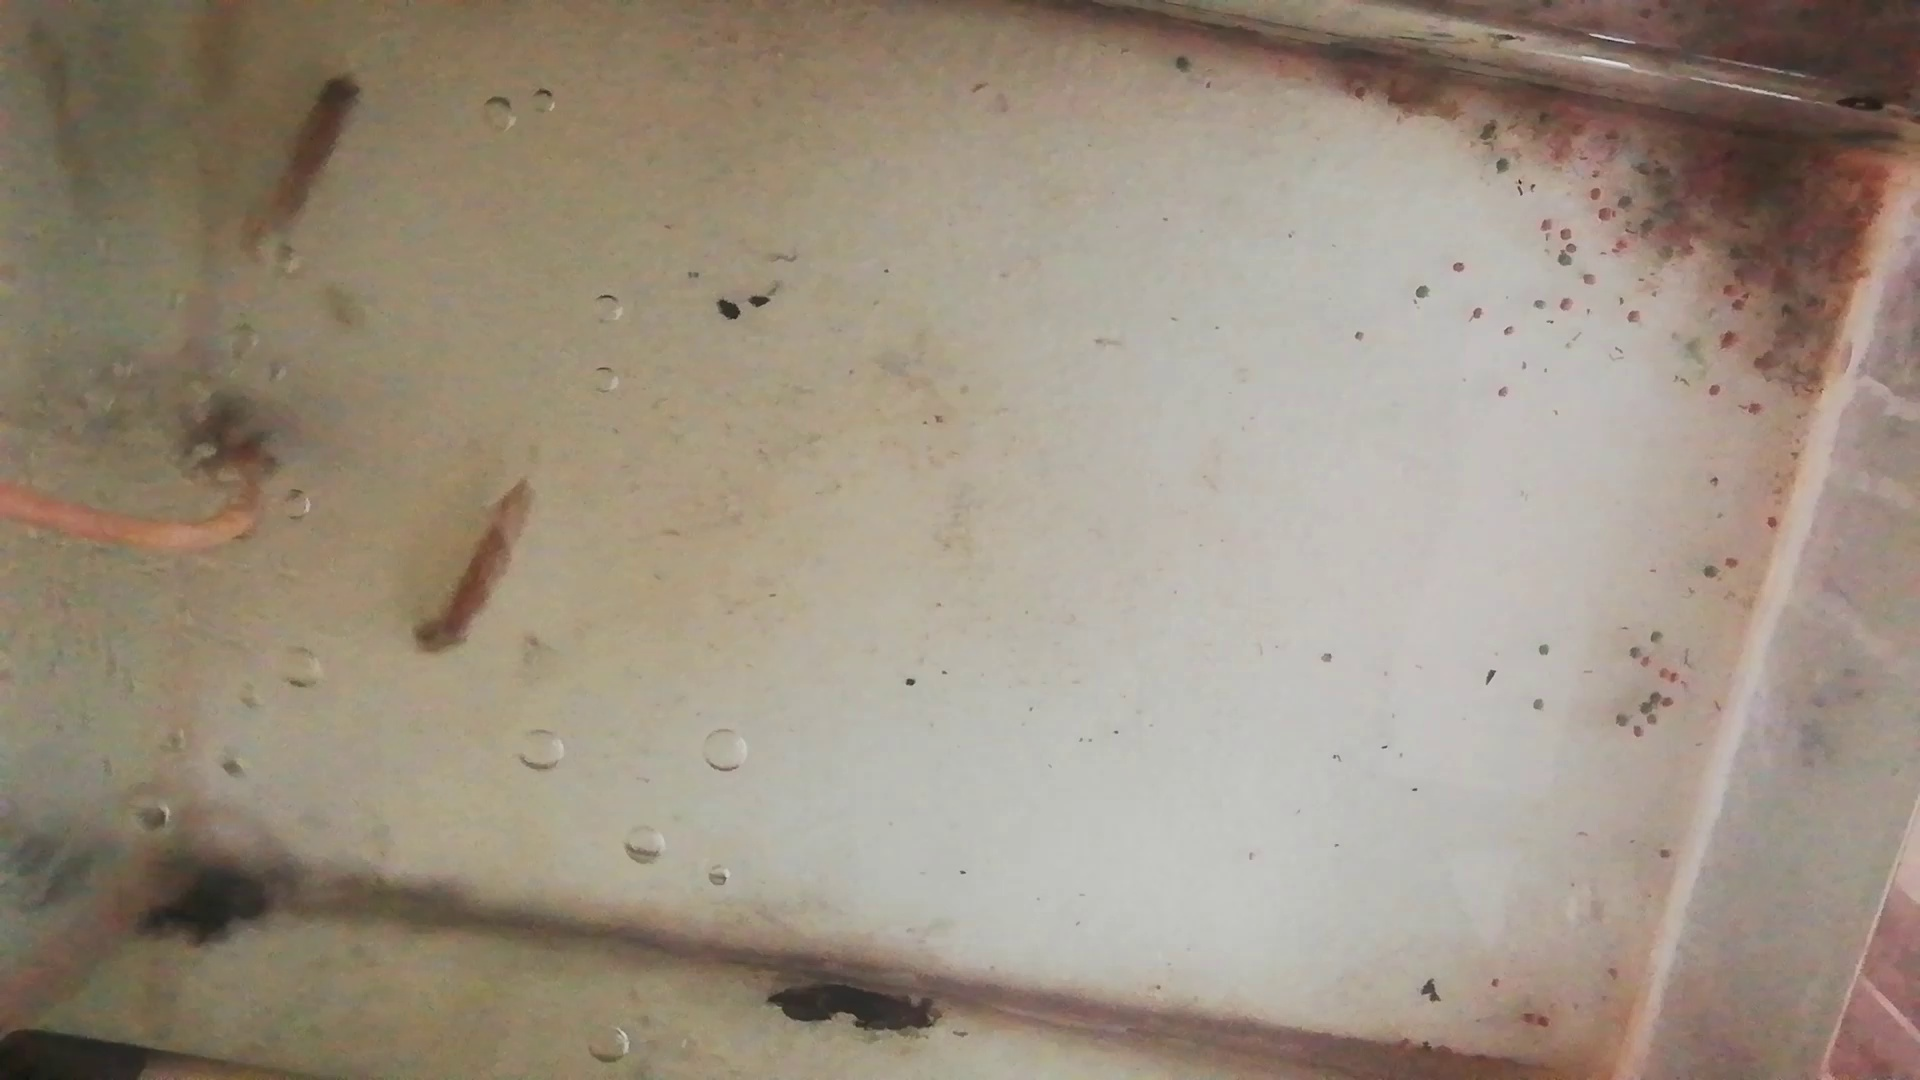fish: (405, 489, 531, 658), (255, 80, 353, 241)
